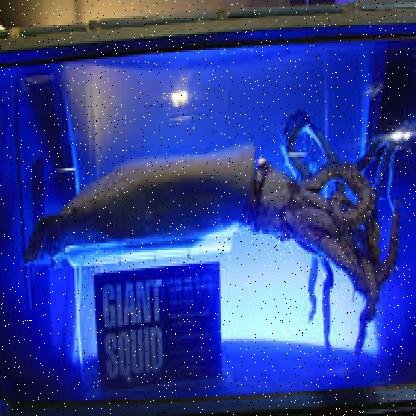colossal_squid: (32, 116, 404, 252)
